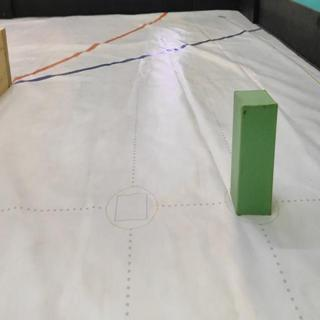greenbox: (231, 86, 279, 214)
